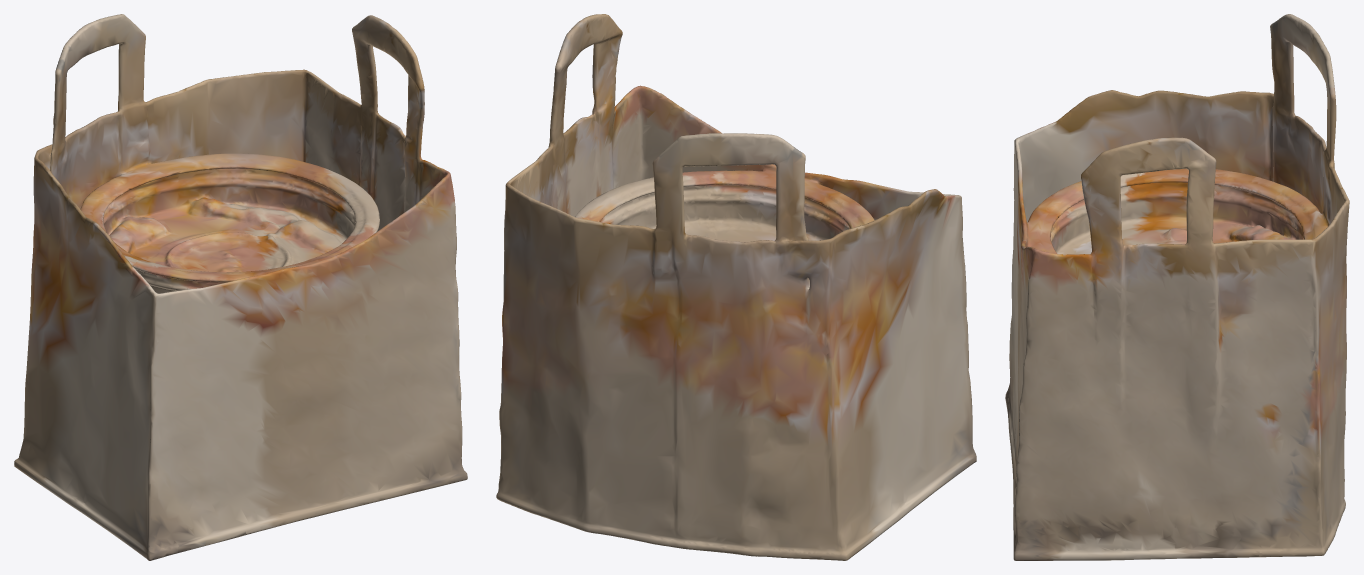
Rendered from tteokbokki_bag.glb.
3 views of the same model, side by side, from view 1: azimuth 30°, elevation 25°; view 2: azimuth 150°, elevation 25°; view 3: azimuth 270°, elevation 25° (orthographic). The views are drawn at different scales.
Parts seen in each view (by area): view 1: geometry_0; view 2: geometry_0; view 3: geometry_0.
Boxes of the visible parts, x1,y1,x2,y2 form: geometry_0: [14, 14, 467, 560]; geometry_0: [496, 14, 976, 560]; geometry_0: [1005, 14, 1349, 560].
Bounding box in the file's own units: 0.2524 × 0.3 × 0.224.
